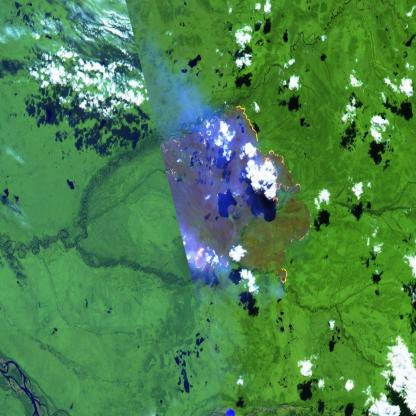fire: (167, 92, 307, 293)
